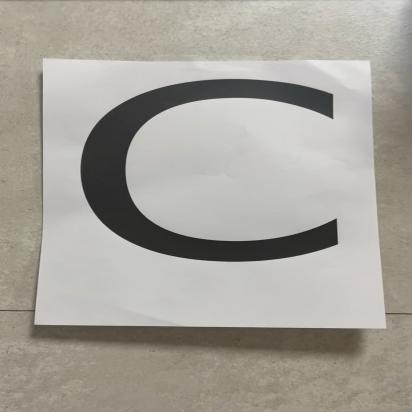seat: (60, 62, 387, 321)
